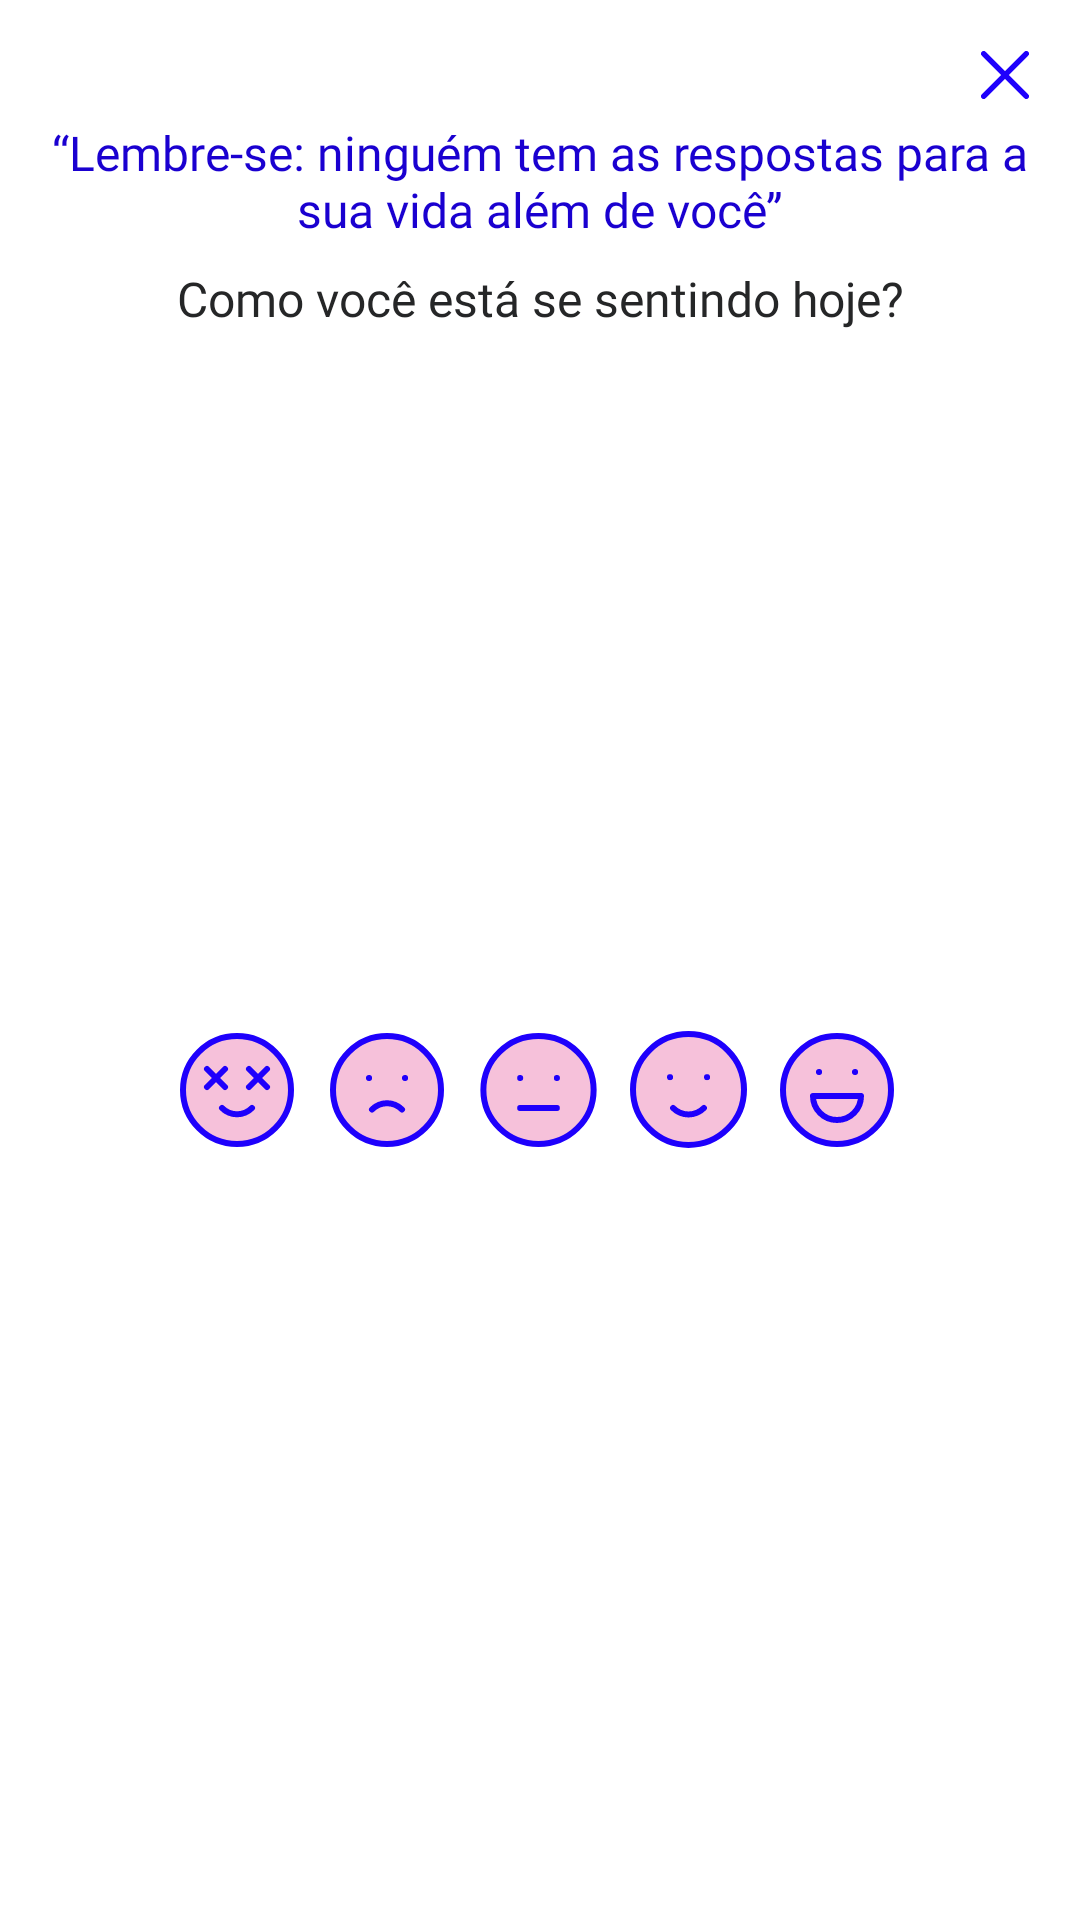

Icon click points for this 1080*1920 phone screenshot, format (x,y):
close popup: (1005,75)
